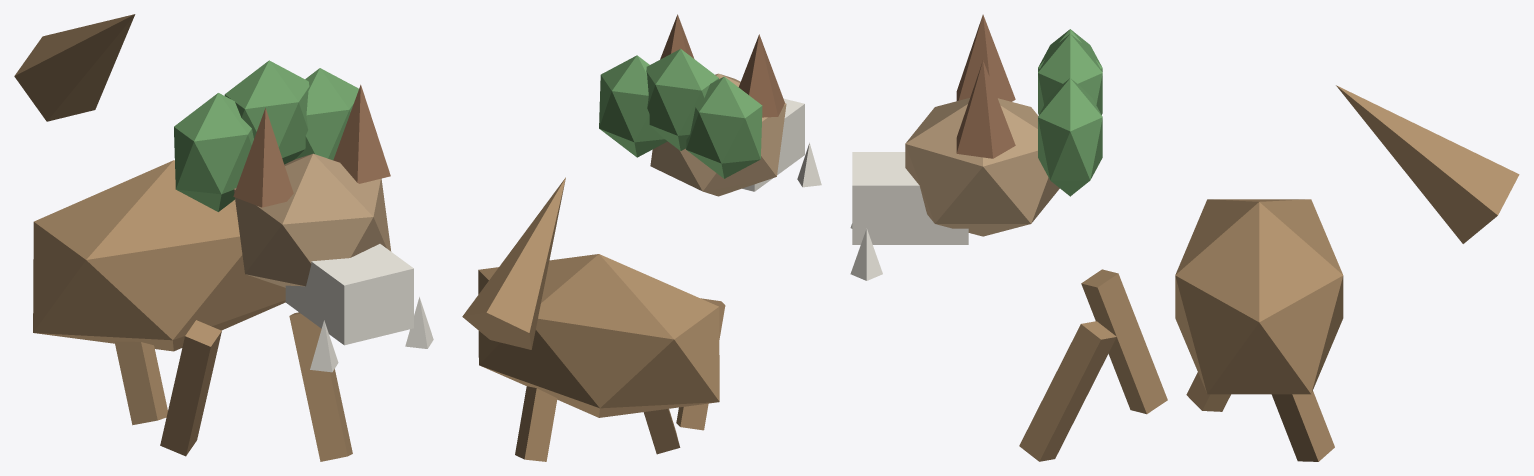
File: npcpose_wolf_walk_04.glb
3 renders of one model, left to right at view 1: azimuth 30°, elevation 25°; view 2: azimuth 150°, elevation 25°; view 3: azimuth 270°, elevation 25°, orthographic. The views are drawn at different scales.
Parts seen in each view (by area): view 1: npcpose; view 2: npcpose; view 3: npcpose.
Boxes of the visible parts, x1,y1,x2,y2 form: npcpose: (14, 14, 433, 461); npcpose: (462, 14, 821, 461); npcpose: (850, 14, 1519, 461).
Size of the model in its own units: 0.8873 by 1.22 by 1.84.
